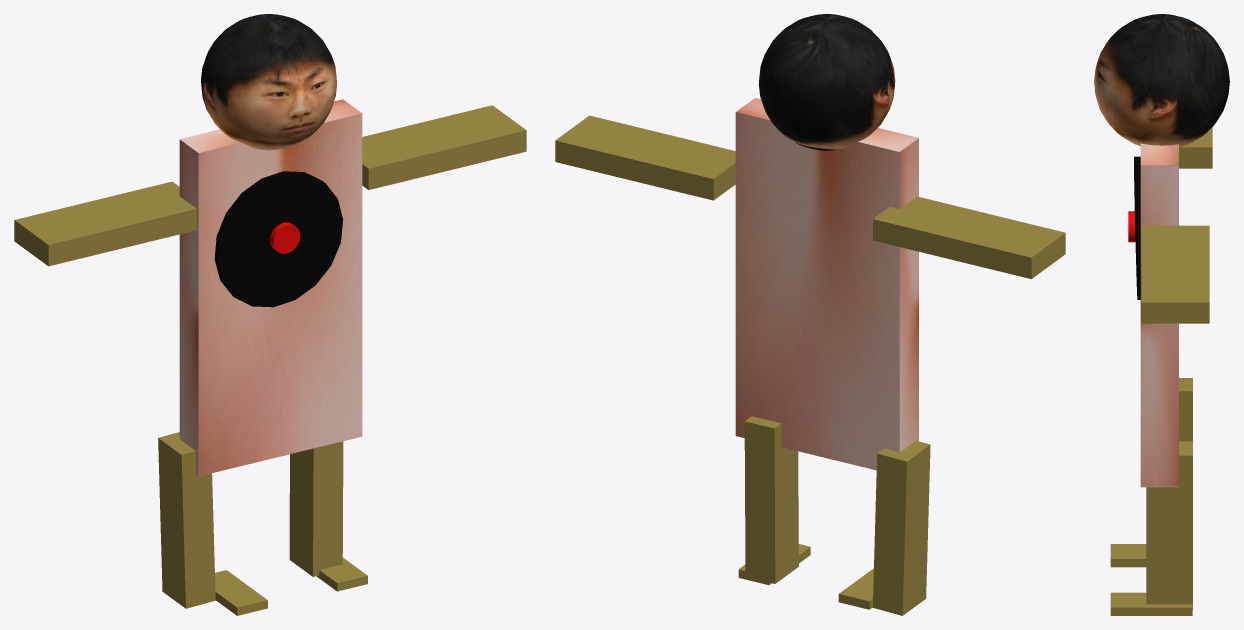
The model's file is Kama.FBX.
3 views of the same model, side by side, from view 1: azimuth 30°, elevation 25°; view 2: azimuth 150°, elevation 25°; view 3: azimuth 270°, elevation 25° (orthographic).
Visible parts, largest first — view 1: Box005, Sphere001, Cylinder001, Box007, Box006, Box004, Box003, Box002, Box001, Cylinder002; view 2: Box005, Sphere001, Box007, Box006, Box004, Box003, Box002; view 3: Sphere001, Box005, Box006, Box003, Box001, Box007, Box004, Box002, Cylinder001, Cylinder002.
Part boxes in pixels (bbox=[...]): Box005: bbox=[179, 99, 362, 476]; Sphere001: bbox=[201, 14, 336, 150]; Cylinder001: bbox=[214, 171, 343, 307]; Box007: bbox=[14, 181, 196, 266]; Box006: bbox=[362, 105, 526, 189]; Box004: bbox=[158, 432, 215, 608]; Box003: bbox=[289, 441, 343, 576]; Box002: bbox=[215, 570, 267, 615]; Box001: bbox=[316, 557, 367, 591]; Cylinder002: bbox=[270, 222, 300, 253]; Box005: bbox=[735, 98, 918, 470]; Sphere001: bbox=[759, 14, 895, 150]; Box007: bbox=[873, 196, 1065, 278]; Box006: bbox=[555, 115, 735, 200]; Box004: bbox=[872, 440, 930, 615]; Box003: bbox=[744, 416, 798, 583]; Box002: bbox=[838, 568, 873, 609]; Sphere001: bbox=[1094, 14, 1229, 147]; Box005: bbox=[1140, 143, 1178, 487]; Box006: bbox=[1141, 225, 1209, 323]; Box003: bbox=[1146, 441, 1192, 609]; Box001: bbox=[1110, 592, 1192, 615]; Box007: bbox=[1179, 127, 1212, 168]; Box004: bbox=[1179, 378, 1192, 441]; Box002: bbox=[1110, 544, 1146, 567]; Cylinder001: bbox=[1134, 156, 1140, 299]; Cylinder002: bbox=[1128, 211, 1135, 242].
Bounding box in the file's own units: 20.62 × 23.26 × 5.11.
5 materials, 2 textured.
